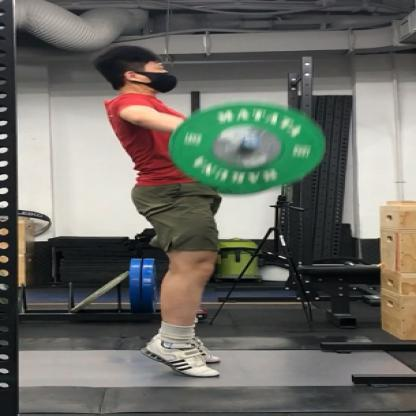barbell: (169, 100, 325, 194)
